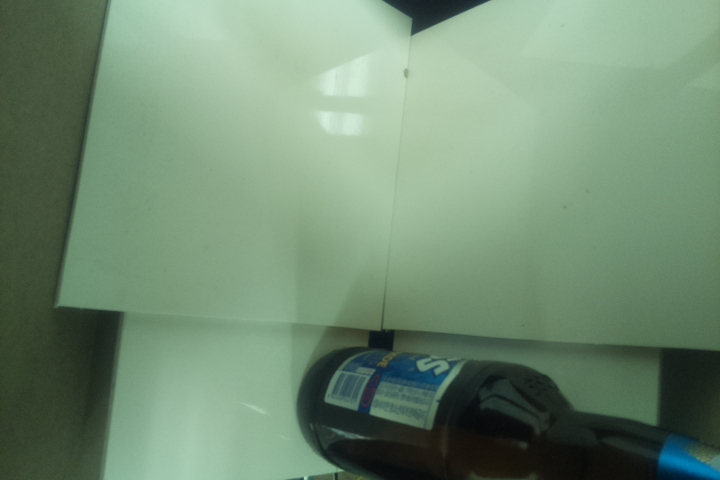makju: (294, 345, 720, 478)
